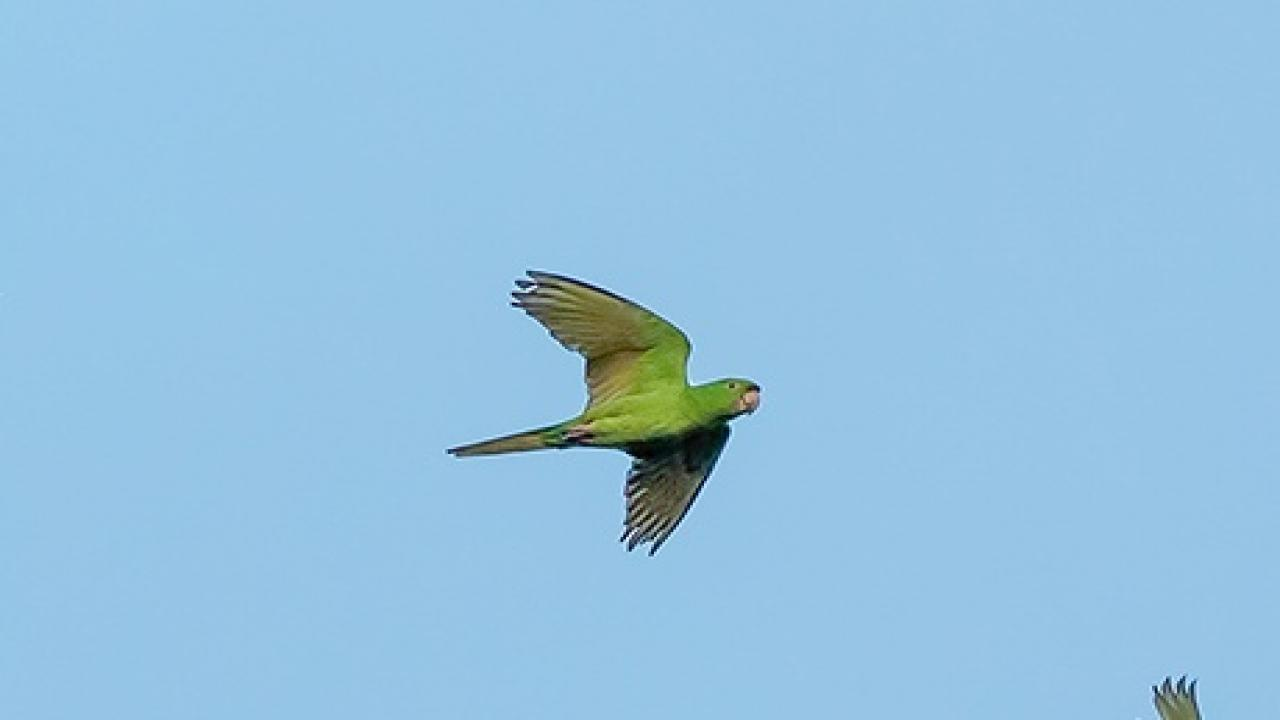Bird: (438, 259, 768, 563)
